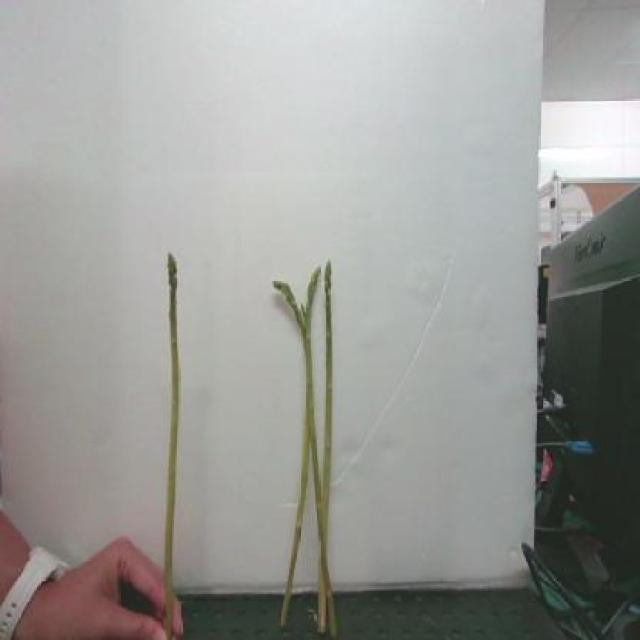aspargus: (162, 254, 181, 595)
